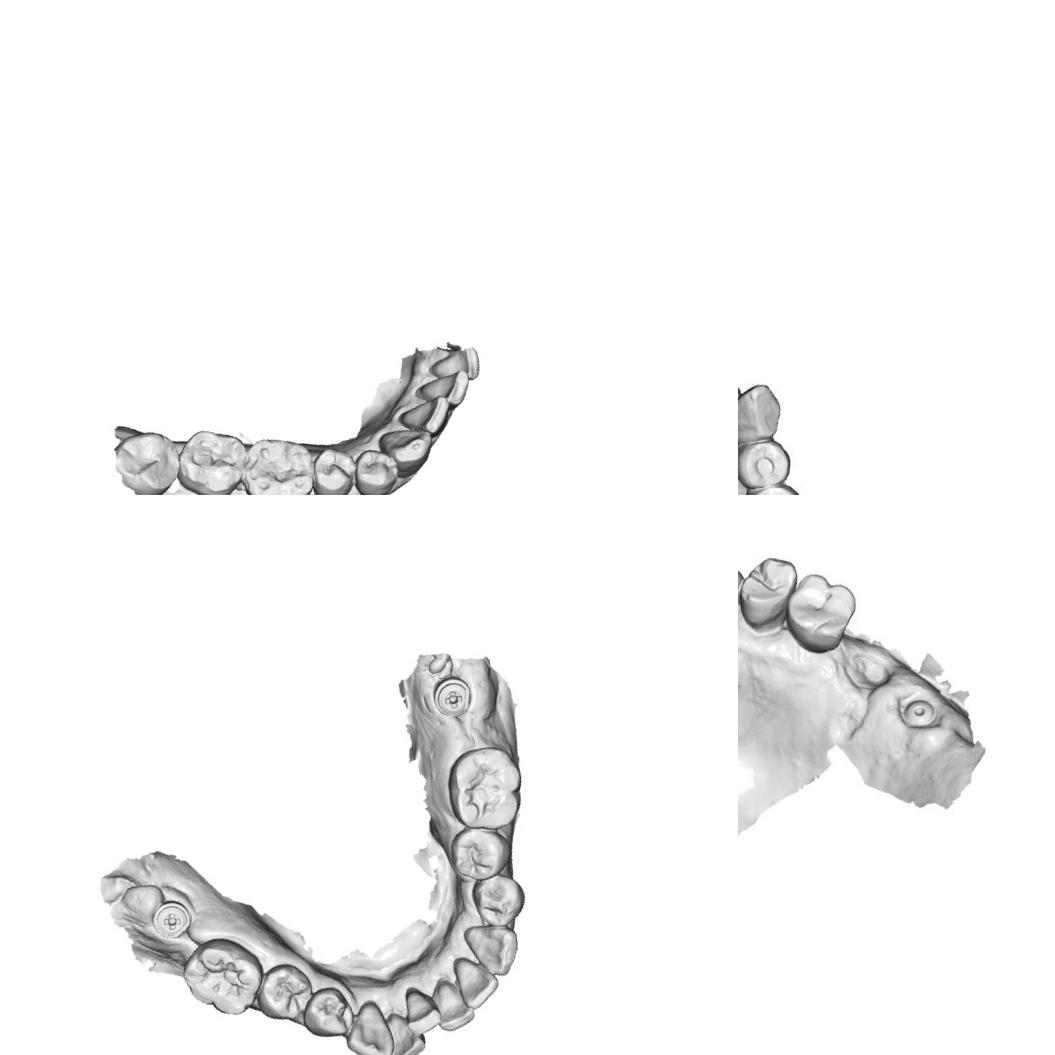canine: (458, 911, 527, 984), (335, 994, 401, 1055), (375, 420, 439, 481), (738, 380, 785, 440)
implant: (899, 691, 940, 730)
implant_plus: (424, 668, 479, 723), (146, 893, 198, 943)
incisor: (447, 945, 505, 1015), (426, 968, 480, 1035), (410, 366, 476, 418), (422, 341, 484, 392), (393, 978, 444, 1040), (394, 392, 456, 442), (379, 1007, 433, 1055)
molar: (172, 926, 274, 1027), (438, 736, 534, 839), (166, 418, 257, 495), (230, 426, 324, 495), (107, 423, 189, 495)
premolar: (773, 564, 868, 662), (441, 814, 518, 889), (246, 954, 322, 1028), (462, 864, 534, 934), (738, 549, 804, 624), (293, 978, 360, 1046), (302, 440, 364, 495), (738, 433, 796, 489), (345, 441, 404, 495), (741, 481, 808, 495)
